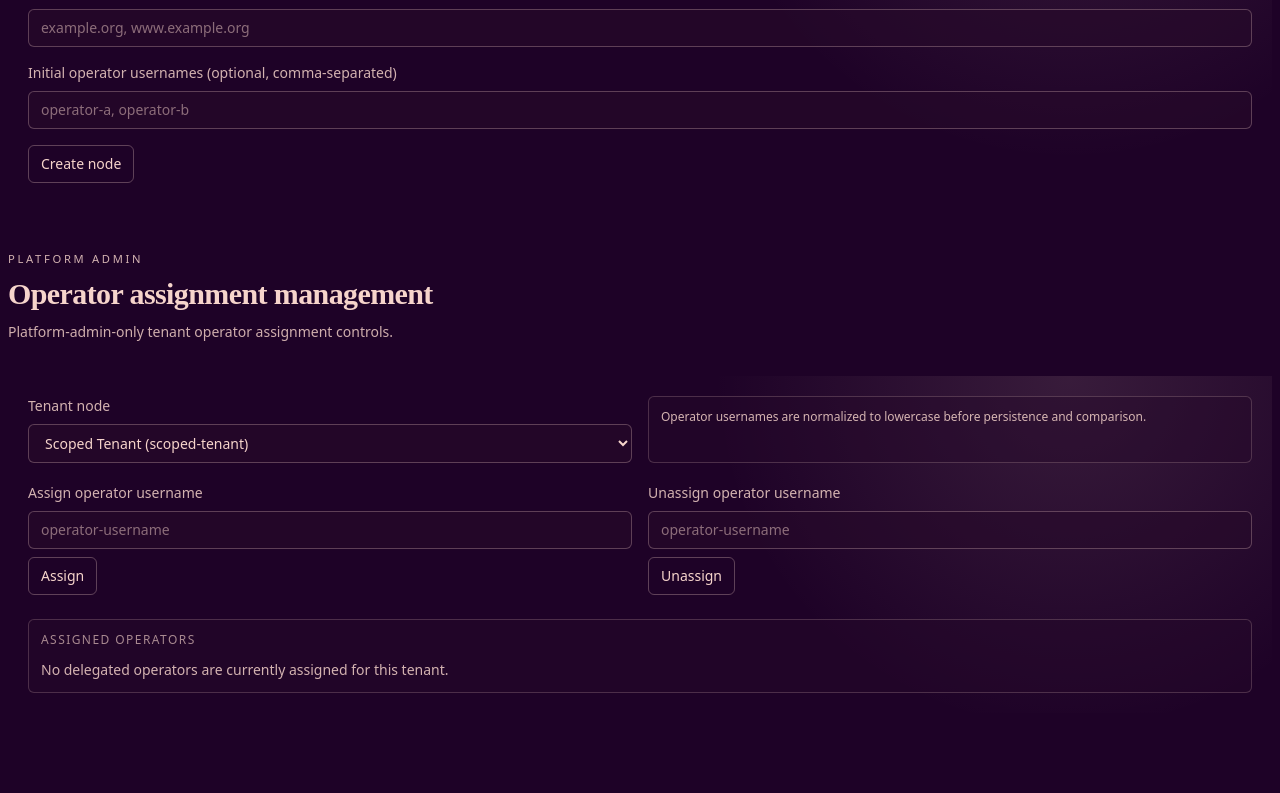
Scenario: TenantsListPage › platform admin can assign username
(page scrolled)
Expected: the heading "Operator assignment management" is shown, [8,276,433,312]
Type "  SECOND-OPERATOR  " into the field labelled "Assign operator username".
click(330, 530); type("  SECOND-OPERATOR  ")  # box [28,511,632,549]
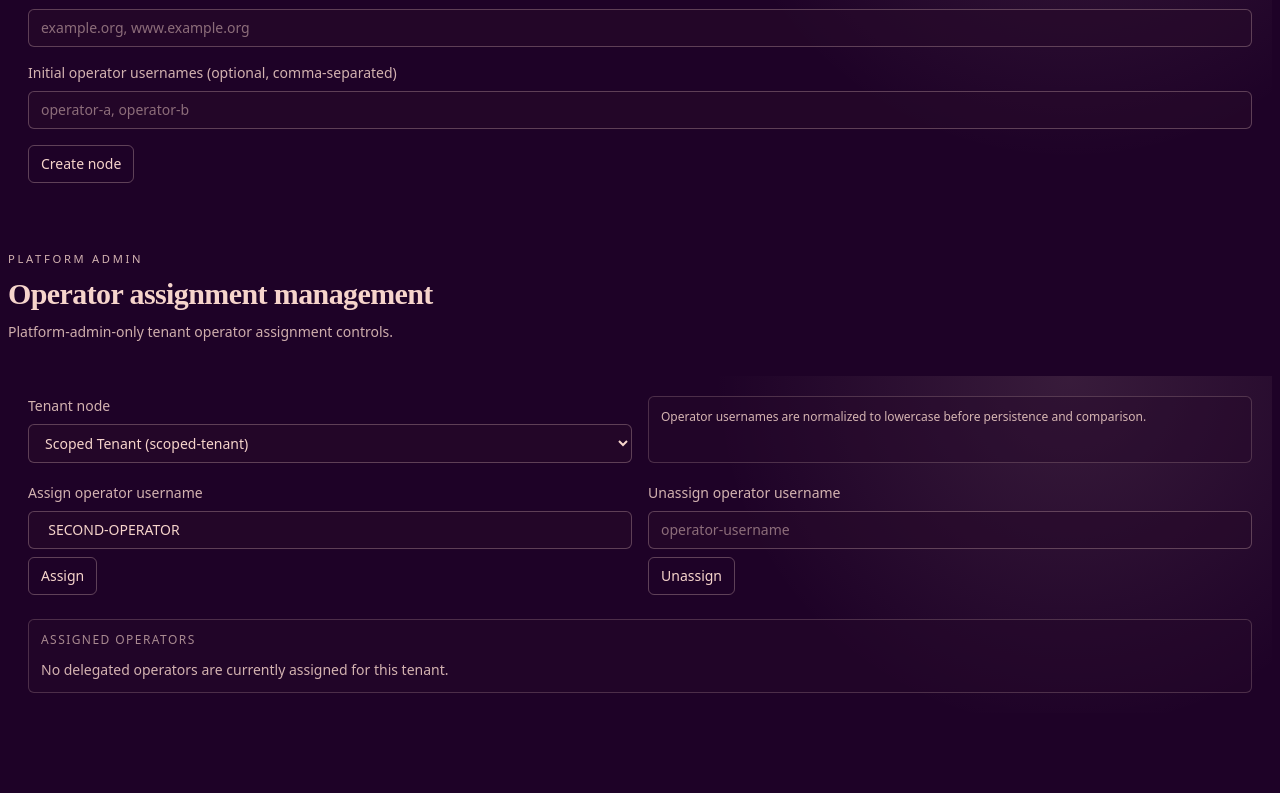
Click the button "Assign".
click(63, 576)  # box [28,557,97,595]
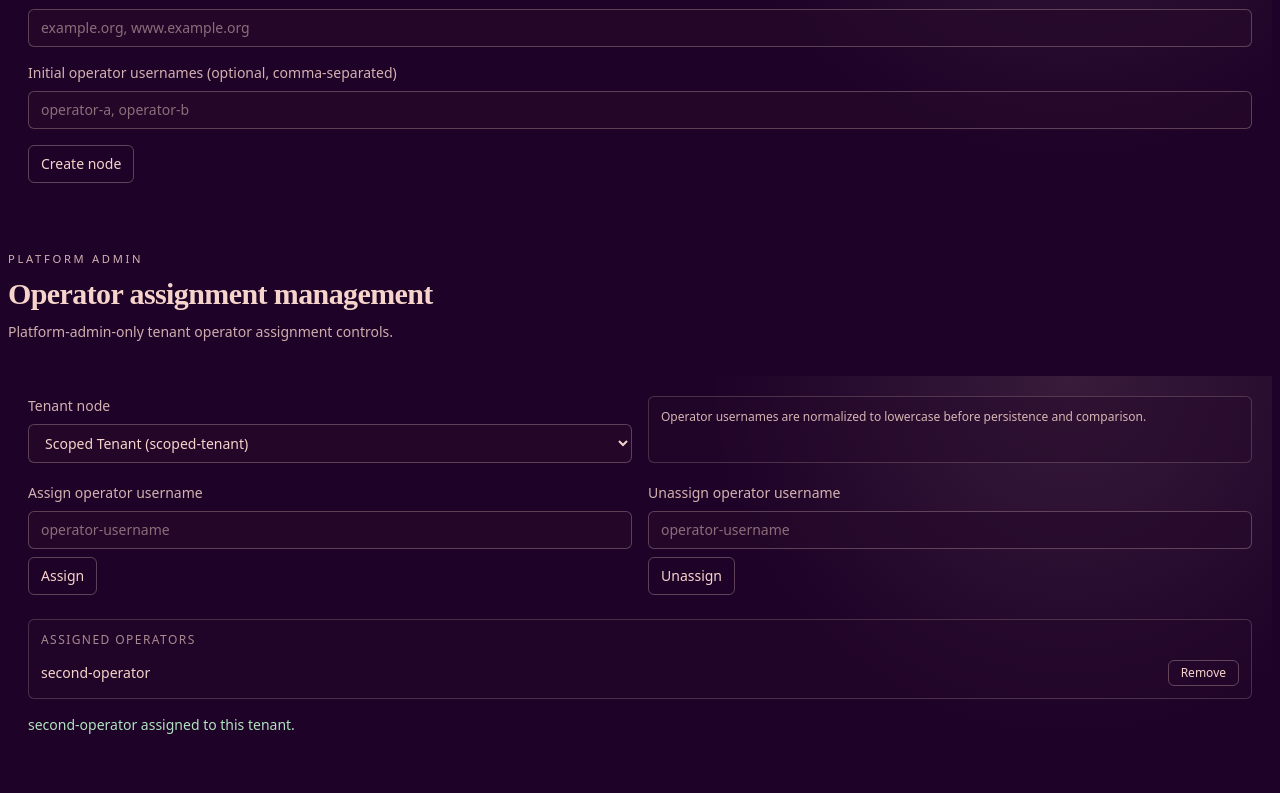
Result: the text "second-operator assigned to this tenant." is shown at [28,715,295,734]
Result: the text "second-operator" is shown at [41,663,150,683]
